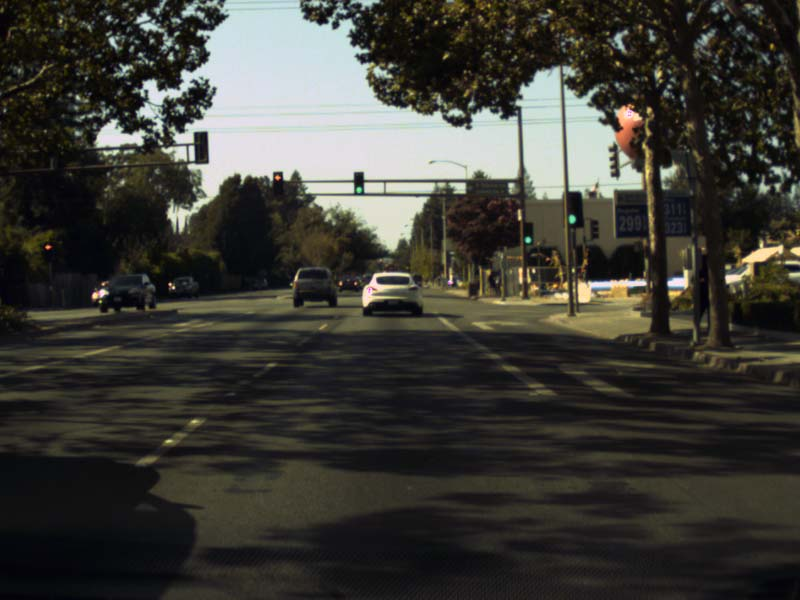Green: (564, 191, 583, 228), (523, 221, 533, 244), (353, 171, 363, 193)
Red: (43, 241, 54, 261), (273, 172, 282, 195)
